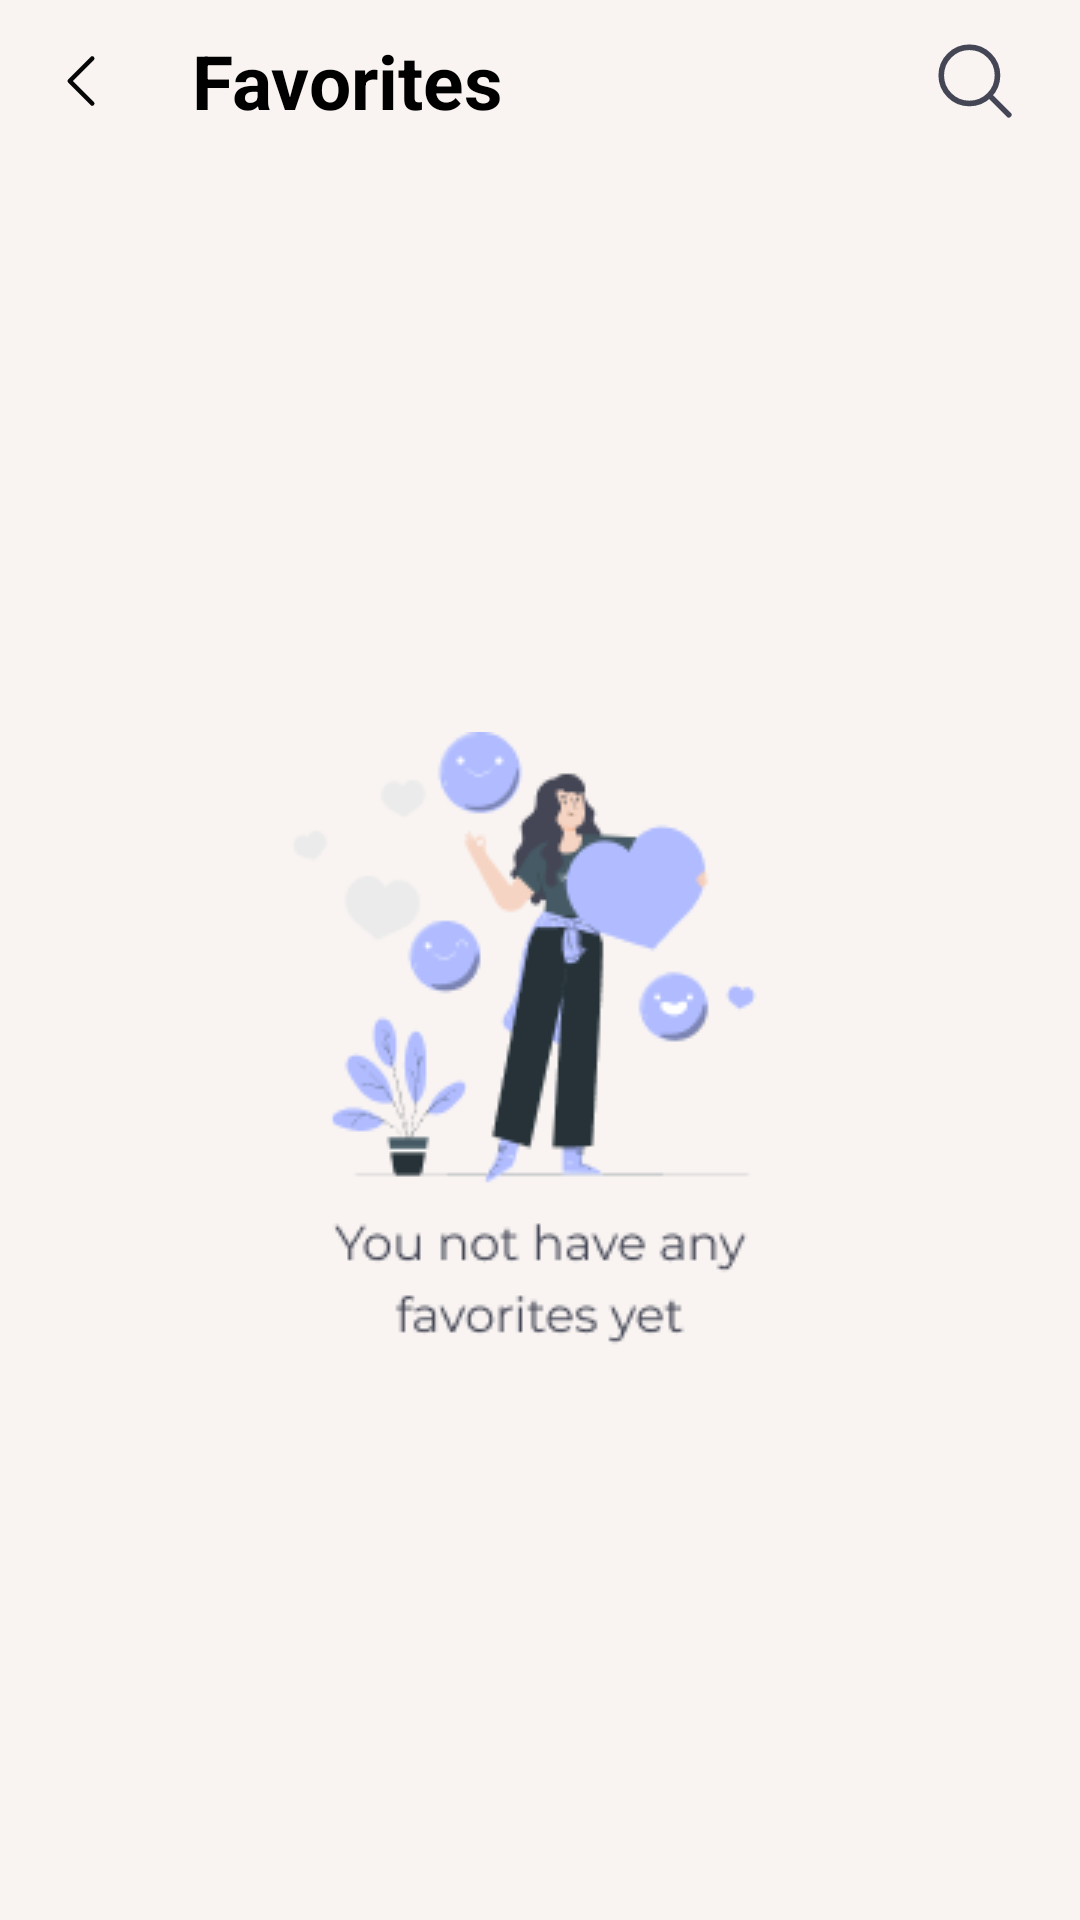

Icons on this 1080 × 1920 Android screen, each with the point to tap as (x,y):
back: (81,81)
search: (975,81)
